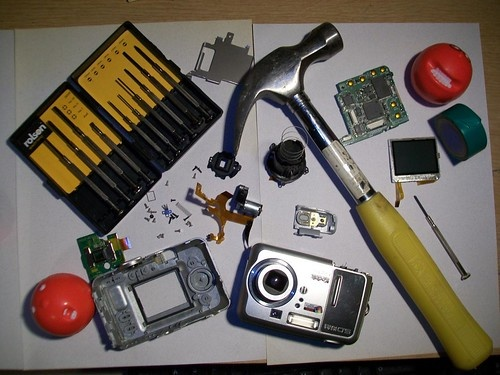hammer: (220, 20, 491, 366)
